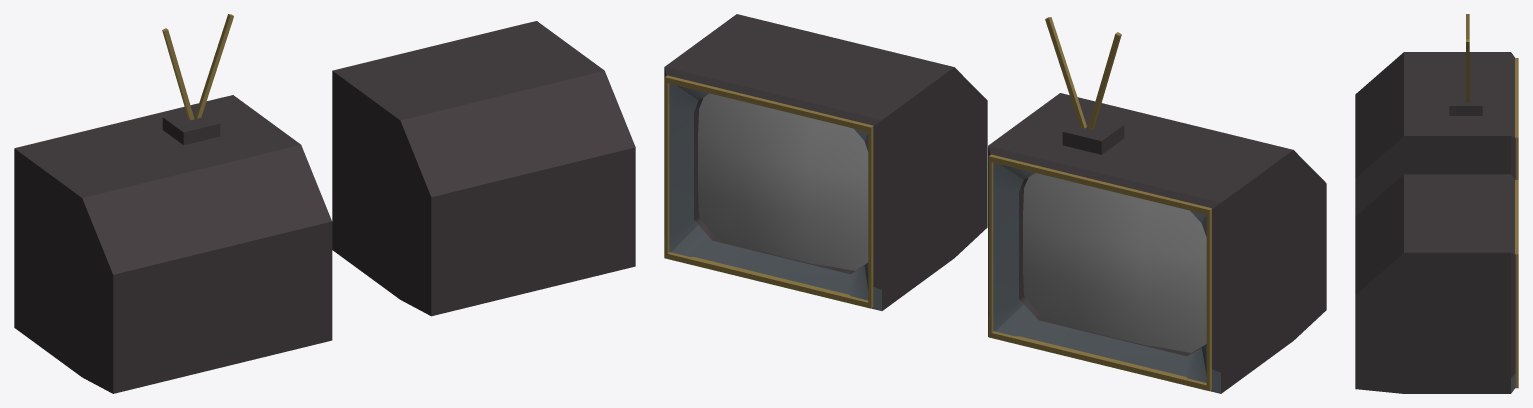
Rendered from televisions.fbx.
The picture shows the model from 3 angles, left to right: view 1: azimuth 30°, elevation 25°; view 2: azimuth 150°, elevation 25°; view 3: azimuth 270°, elevation 25°; orthographic projection. The views are drawn at different scales.
Parts seen in each view (by area): view 1: tv_single, tv_single1; view 2: tv_single, tv_single1; view 3: tv_single1, tv_single.
Part boxes in pixels (x1,y1,x2,y2): tv_single: (14,14,332,393); tv_single1: (332,21,635,316); tv_single: (988,17,1326,393); tv_single1: (664,14,987,310); tv_single1: (1355,174,1518,393); tv_single: (1355,14,1518,216).
Bounding box in the file's own units: 239 × 126 × 82.31.
